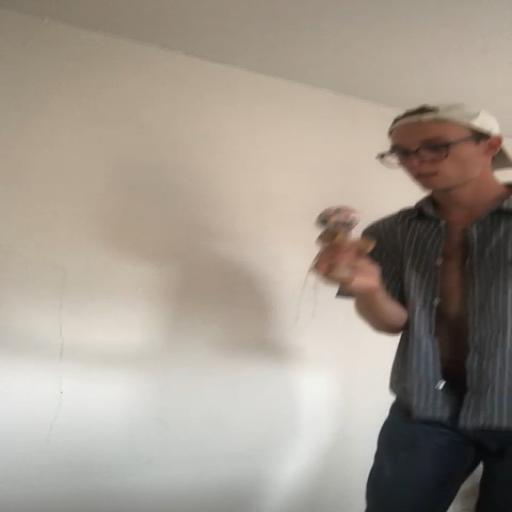kendama_ball: (316, 206, 360, 229)
